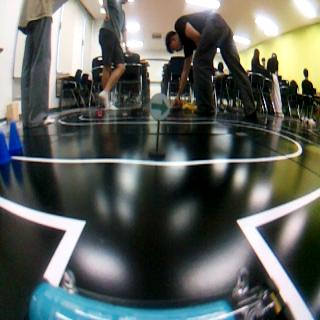right: (148, 91, 169, 121)
